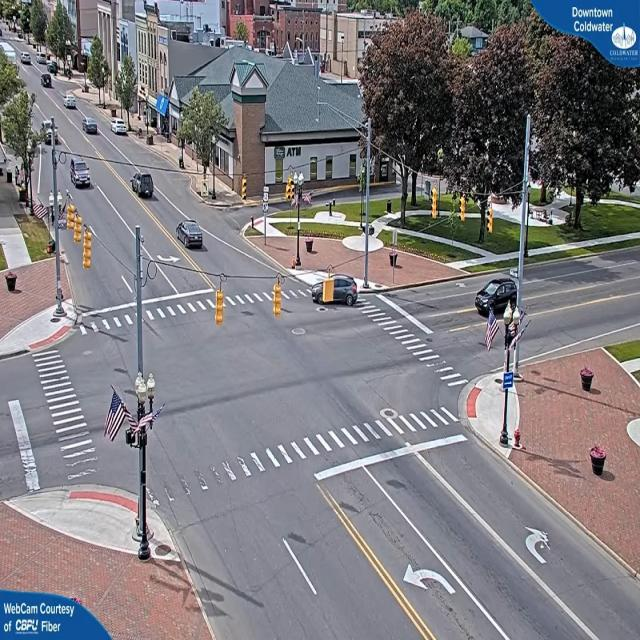car: (477, 277, 521, 312), (308, 277, 358, 303), (177, 220, 207, 250), (130, 173, 154, 200), (72, 157, 92, 188), (112, 119, 129, 136), (84, 118, 99, 136), (64, 96, 76, 110), (43, 76, 54, 89), (20, 52, 30, 64)
